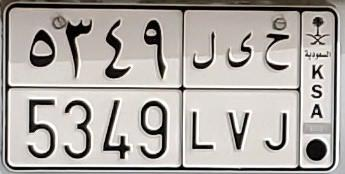3: (62, 18, 94, 159)
4: (102, 16, 133, 160)
5: (25, 28, 58, 160)
9: (140, 17, 168, 161)
J: (263, 31, 292, 151)
L: (190, 29, 218, 153)
V: (226, 30, 255, 151)
